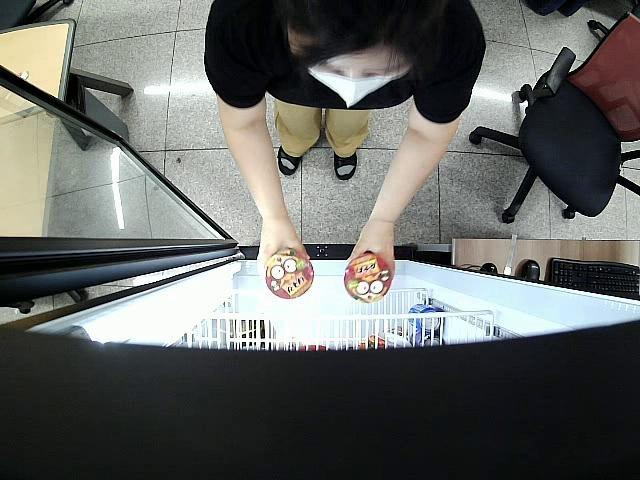06_nuguri_S: (342, 251, 396, 306), (262, 246, 314, 300)
